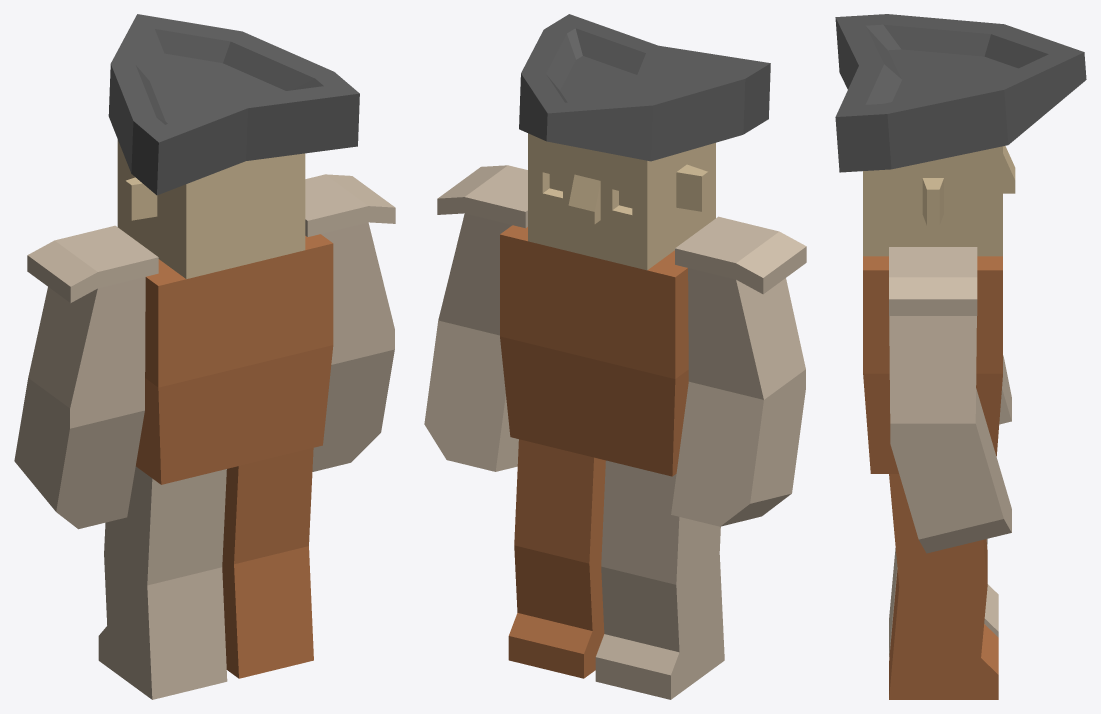
File: pirate_captain.glb
3 views of the same model, side by side, from view 1: azimuth 30°, elevation 25°; view 2: azimuth 150°, elevation 25°; view 3: azimuth 270°, elevation 25° (orthographic).
Visible parts, largest first — view 1: Group 122 (×2), body, armLeft, legLeft, legRight, armRight; view 2: Group 122 (×2), body, armLeft, legLeft, armRight, legRight; view 3: Group 122 (×2), armRight, legRight, body, legLeft, armLeft.
Part boxes in pixels (left/top/right/bottom): Group 122 (×2): left=108, top=14, right=359, bottom=278; body: left=136, top=234, right=333, bottom=484; armLeft: left=14, top=225, right=158, bottom=529; legLeft: left=98, top=466, right=227, bottom=699; legRight: left=222, top=448, right=313, bottom=678; armRight: left=305, top=174, right=395, bottom=471; Group 122 (×2): left=519, top=14, right=770, bottom=270; body: left=500, top=225, right=688, bottom=476; armLeft: left=671, top=216, right=806, bottom=526; legLeft: left=595, top=460, right=724, bottom=699; armRight: left=424, top=165, right=527, bottom=471; legRight: left=508, top=439, right=605, bottom=678; Group 122 (×2): left=835, top=14, right=1086, bottom=256; armRight: left=889, top=247, right=1011, bottom=553; legRight: left=889, top=474, right=998, bottom=699; body: left=863, top=256, right=1002, bottom=473; legLeft: left=889, top=539, right=998, bottom=656; armLeft: left=999, top=355, right=1011, bottom=424.
Size of the model in its own units: 6.24 by 10.94 by 4.1.
